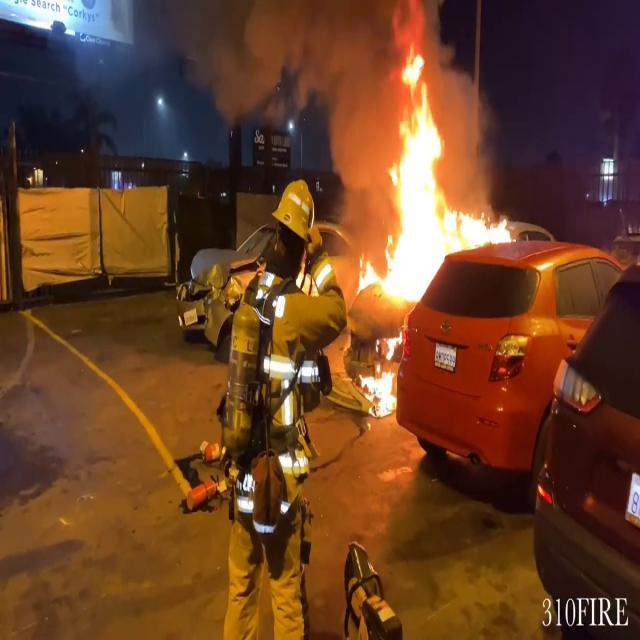Fire: (357, 186, 484, 306), (388, 38, 448, 186), (360, 328, 408, 419)
Smoke: (170, 0, 487, 172)
